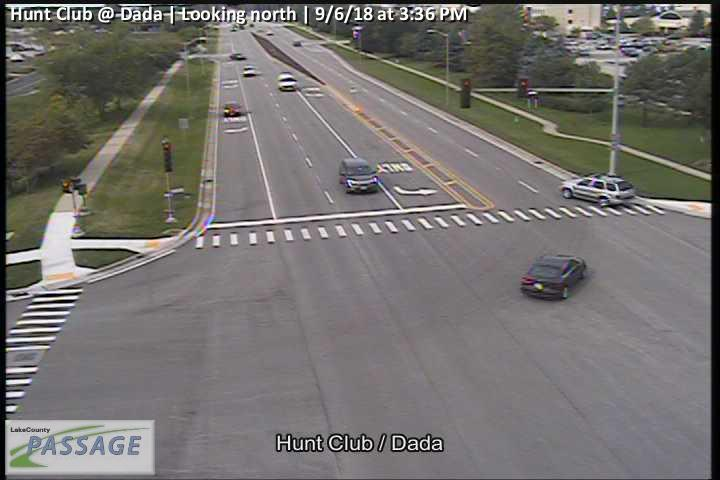Sedan: (520, 254, 586, 298), (557, 173, 635, 208), (340, 157, 379, 194), (276, 70, 297, 91)
